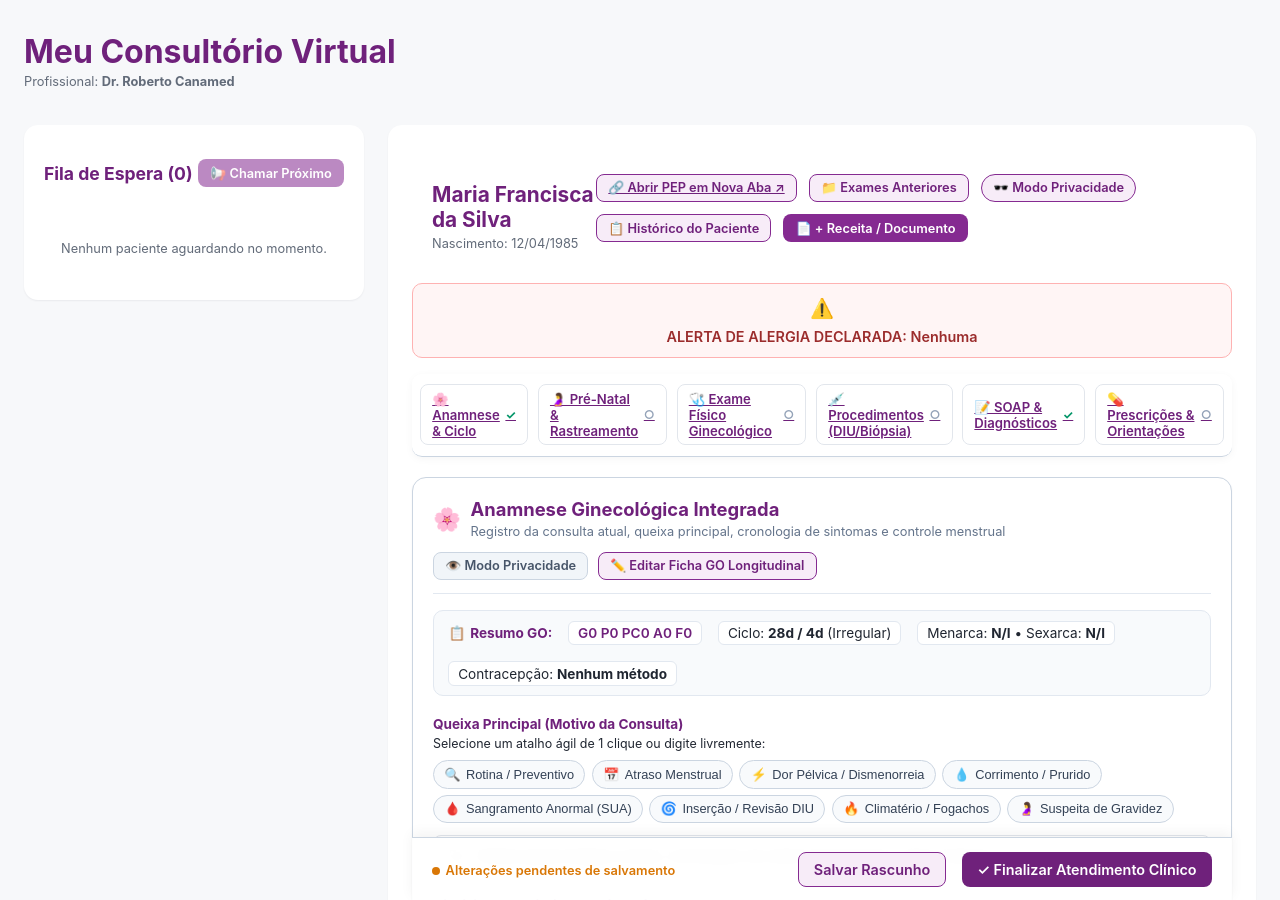
DoctorWorkspace Component › apresenta seletor de retorno programado CFM 1.958 e abre ConsultationFinishSummaryModal ao finalizar consulta
The width and height of the screenshot is (1280, 900).
Clica no botão de finalizar atendimento
Click the button "✓ Finalizar Atendimento Clínico": x=1087, y=869 x1=962 y1=851 x2=1212 y2=886
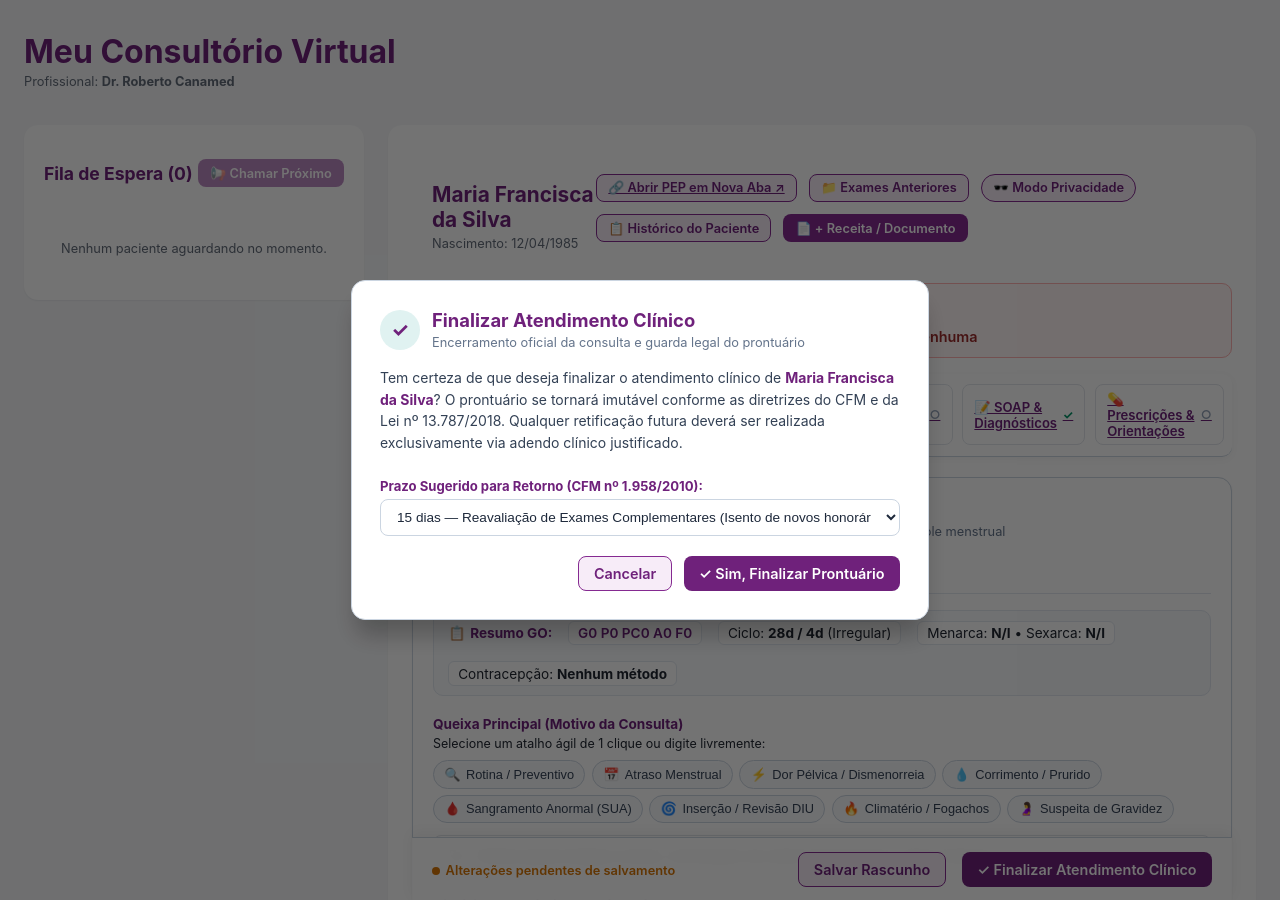
Now the dropdown labelled "Prazo Sugerido para Retorno (CFM nº 1.958/2010):" is shown, box x1=380 y1=499 x2=900 y2=536
Now the text "Prazo Sugerido para Retorno (CFM nº 1.958/2010):" is shown, box x1=380 y1=478 x2=703 y2=494
Confirma a finalização
Click the button "✓ Sim, Finalizar Prontuário": x=792, y=574 x1=684 y1=556 x2=900 y2=591
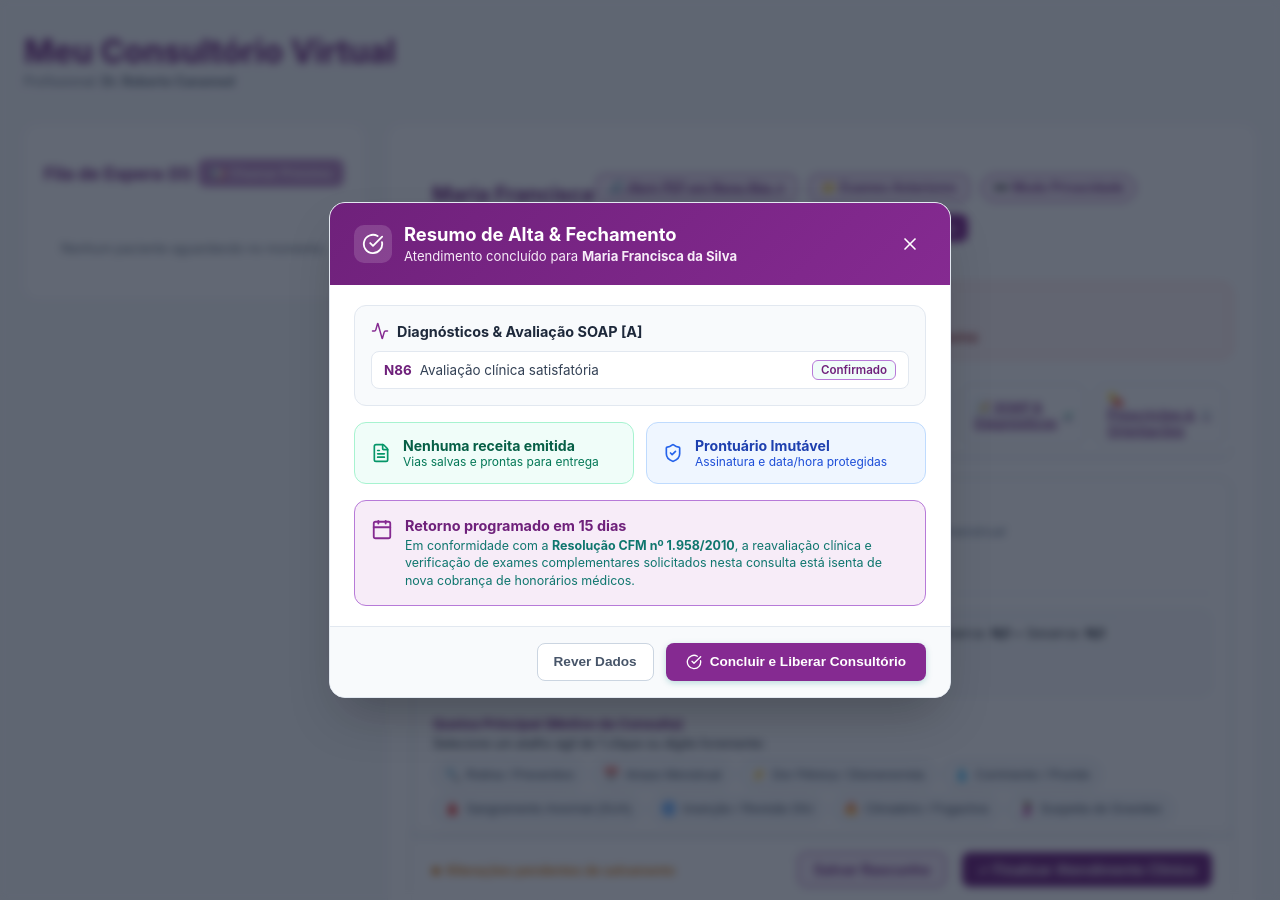
Now the heading "Resumo de Alta & Fechamento" is shown, box x1=404 y1=223 x2=677 y2=245
Now the text "Retorno programado em 15 dias" is shown, box x1=405 y1=517 x2=626 y2=534
Now the button "Concluir e Liberar Consultório" is shown, box x1=666 y1=643 x2=926 y2=681
